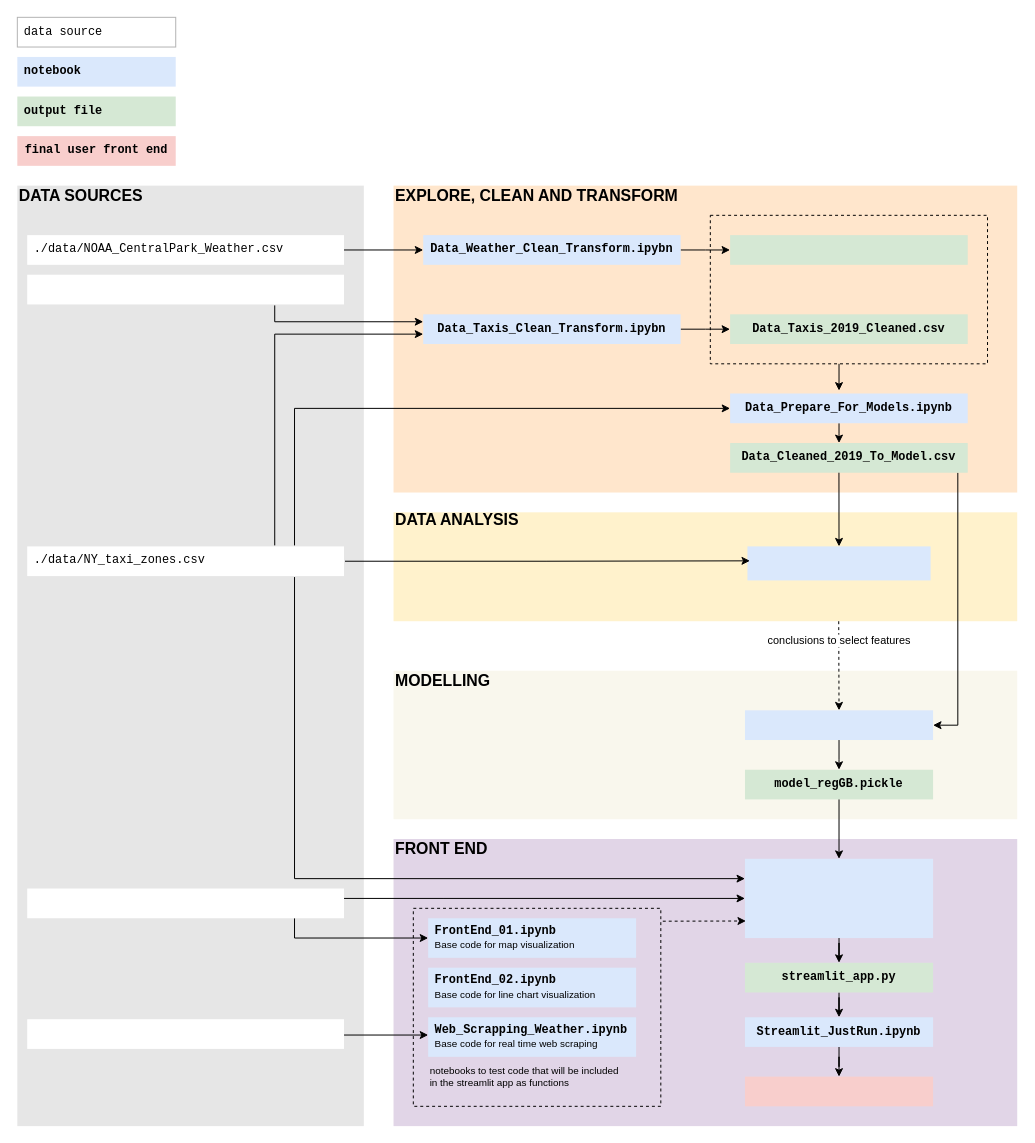
Image size: 1035x1143. Some labels were removed from this diagram. Here are the shapes that lost their labels. From the top down, the box of each, then its label:
(730, 235, 967, 264): Data_Weather_Cleaned.csv
(27, 274, 344, 304): ./data/2019_Yellow_Taxi_Trip_Data.csv.bz2
(747, 546, 930, 580): Data_Analysis_01.ipynb
(744, 710, 933, 740): Modelling_01.ipynb
(27, 888, 344, 918): ./data/taxi_zones/taxi_zones.shp
(744, 858, 933, 938): Streamlit.ipynb
(27, 1019, 344, 1048): www.wunderground.com
(744, 1076, 933, 1106): URL to open in browser
